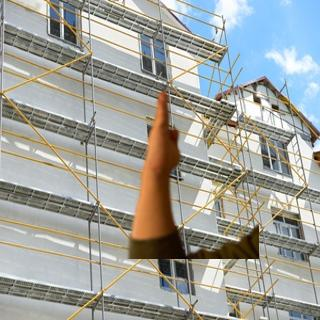RIGHT: (140, 89, 182, 175)
